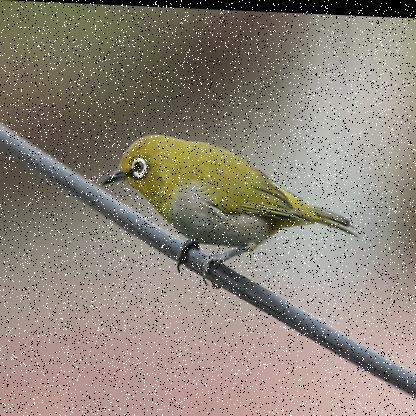Burung: (101, 130, 358, 292)
